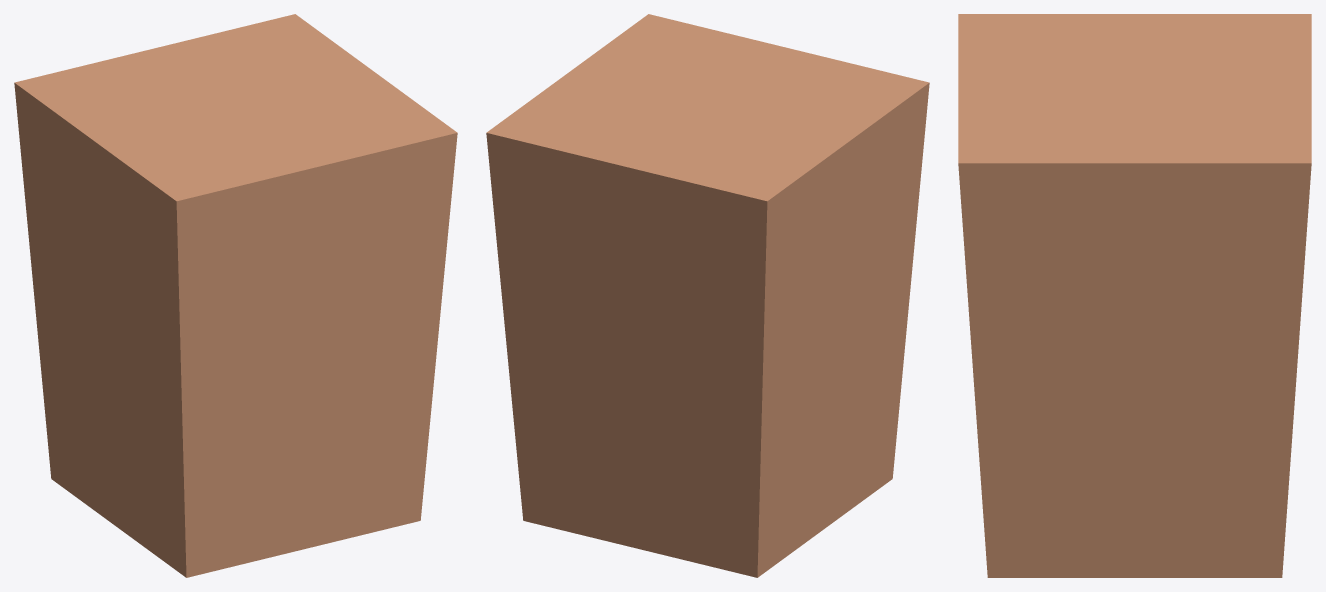
The model's file is planter.glb.
3 views of the same model, side by side, from view 1: azimuth 30°, elevation 25°; view 2: azimuth 150°, elevation 25°; view 3: azimuth 270°, elevation 25° (orthographic). The views are drawn at different scales.
Parts seen in each view (by area): view 1: world; view 2: world; view 3: world.
Boxes of the visible parts, bbox=[...] form: world: bbox=[14, 14, 457, 577]; world: bbox=[486, 14, 929, 577]; world: bbox=[958, 14, 1311, 577].
Bounding box in the file's own units: 0.6 × 0.8 × 0.6.
